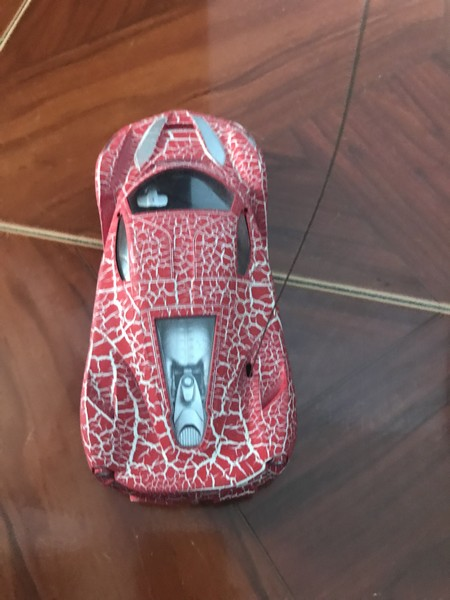RC: (77, 110, 301, 509)
